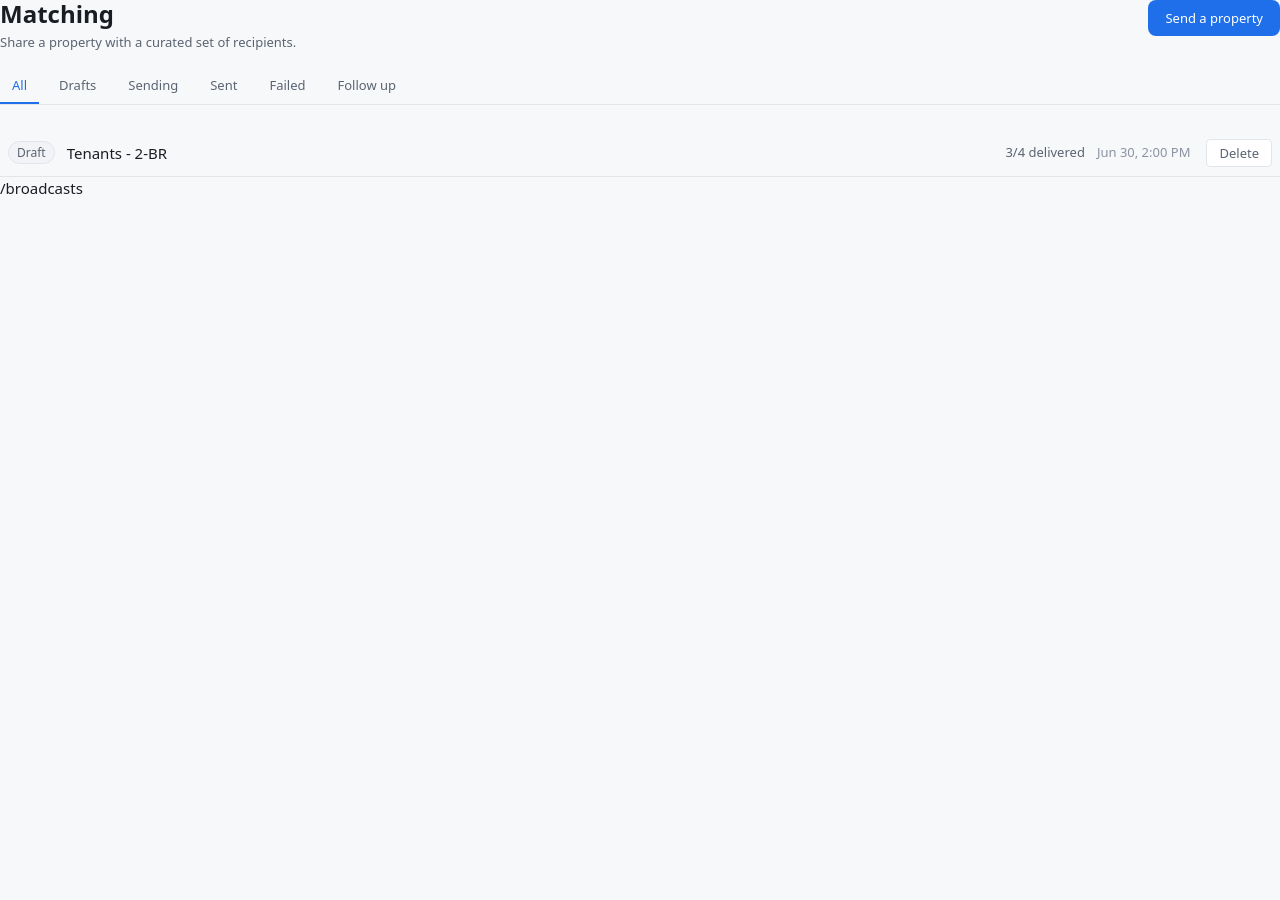
BroadcastsList — delete draft › Cancel closes the modal without deleting
Check: the list named "Property sends" is shown, box [0,129,1279,178]
Click the button with aria-label "Delete draft:". click: click(1239, 153)
box: [1206,139,1272,167]
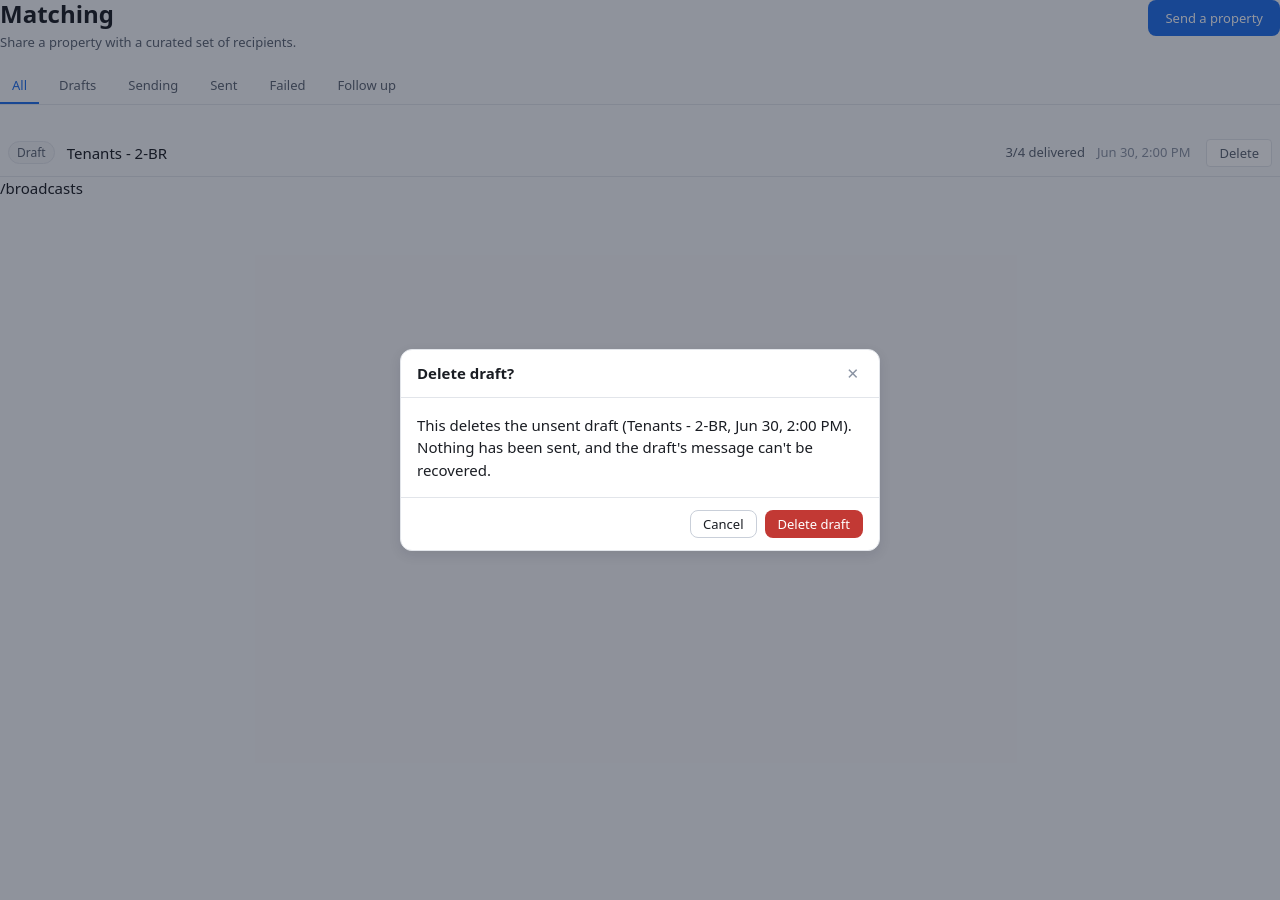
Click the button "Cancel". click: click(723, 524)
box: [690,510,756,538]
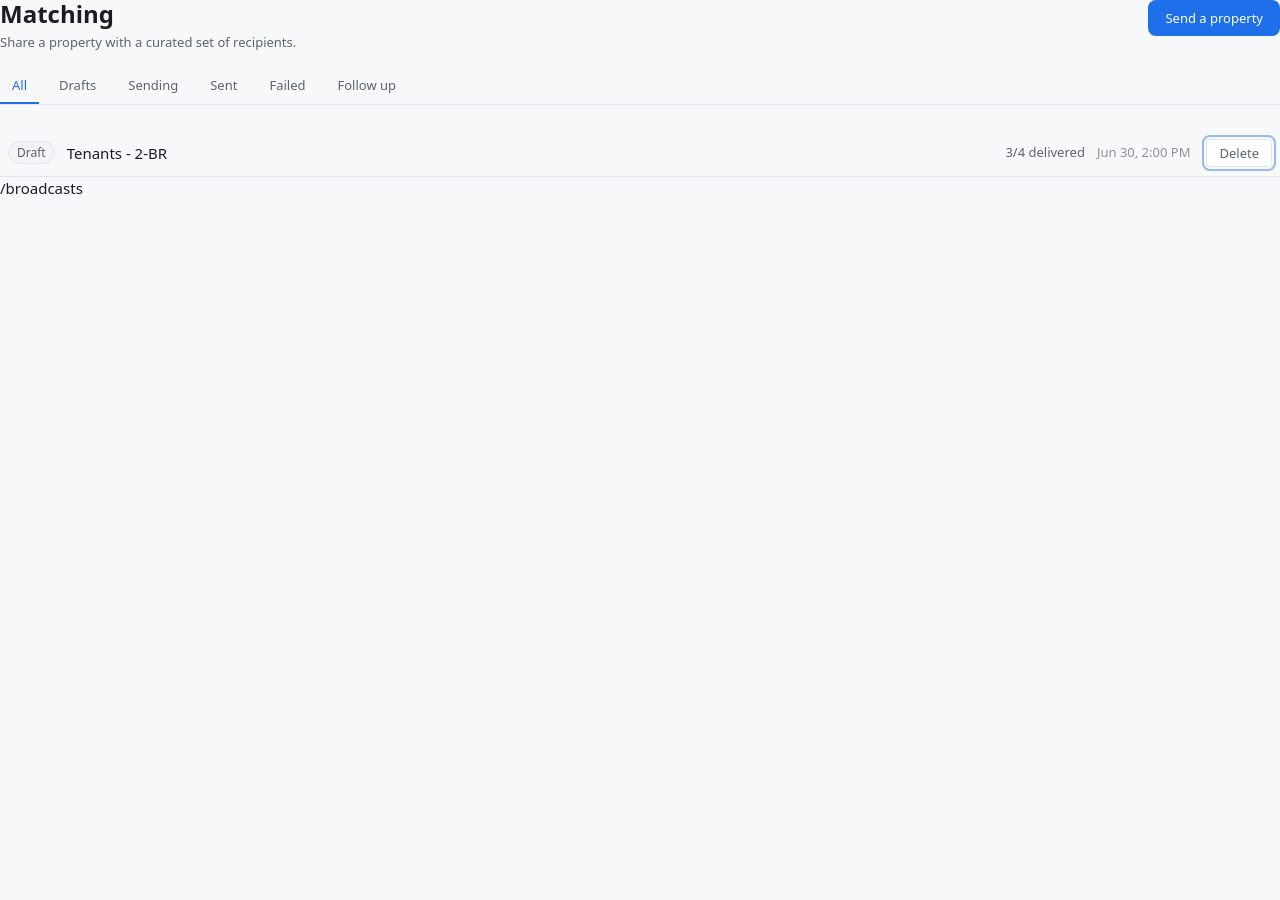
Check: the list named "Property sends" is shown, box [0,129,1279,178]
Check: the dialog is gone
